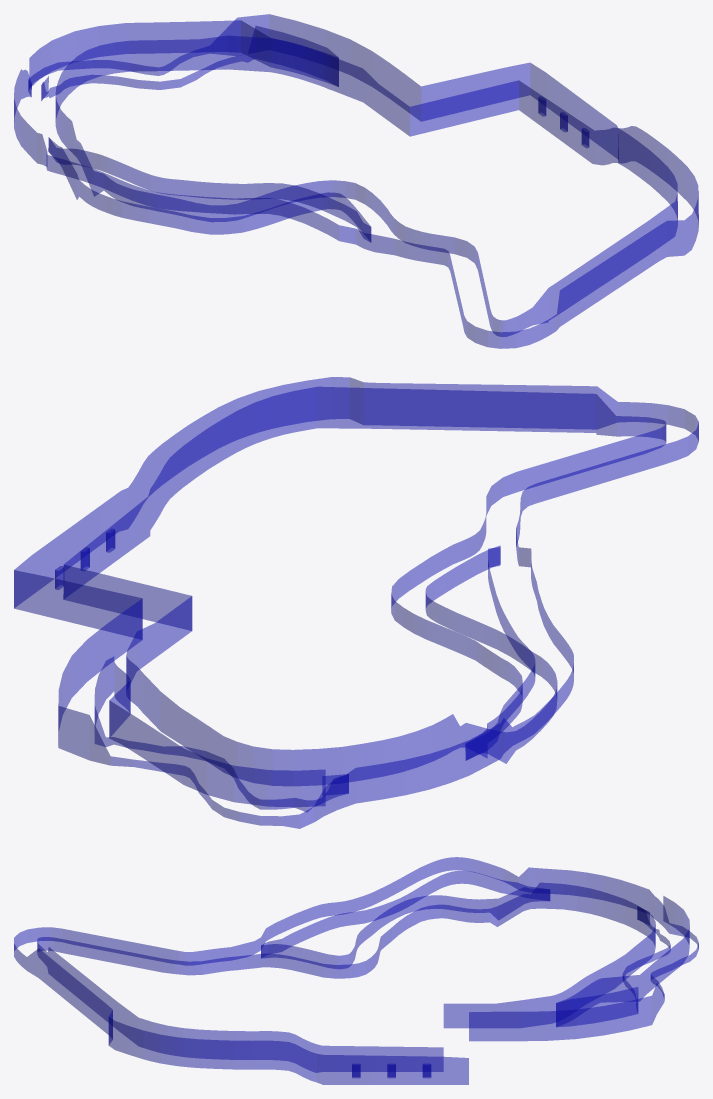
The model's file is track_la_coll_wall_01.fbx.
The picture shows the model from 3 angles, top to bottom: view 1: azimuth 30°, elevation 25°; view 2: azimuth 150°, elevation 25°; view 3: azimuth 270°, elevation 25°; orthographic projection. The views are drawn at different scales.
Parts seen in each view (by area): view 1: track_la_coll_wall_01; view 2: track_la_coll_wall_01; view 3: track_la_coll_wall_01.
Boxes of the visible parts, box(x1,y1,x2,y2) form: track_la_coll_wall_01: box(14, 14, 698, 348); track_la_coll_wall_01: box(14, 377, 698, 828); track_la_coll_wall_01: box(14, 857, 698, 1084).
Size of the model in its own units: 683 by 93.95 by 1060.
